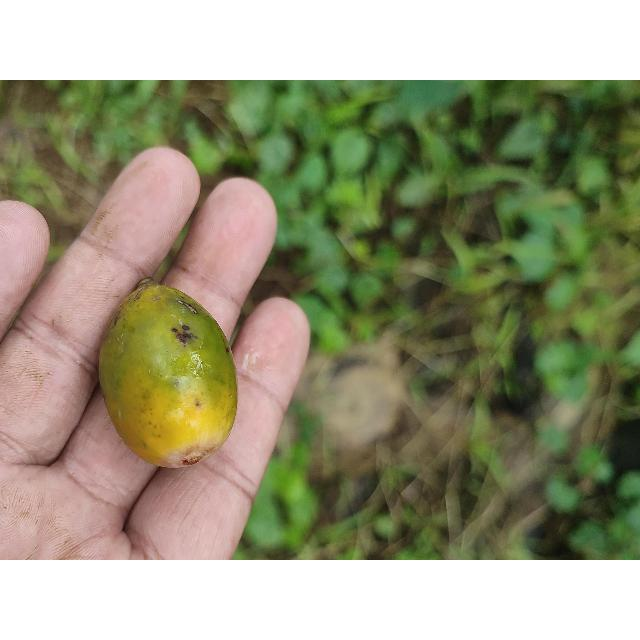good: (96, 280, 238, 470)
